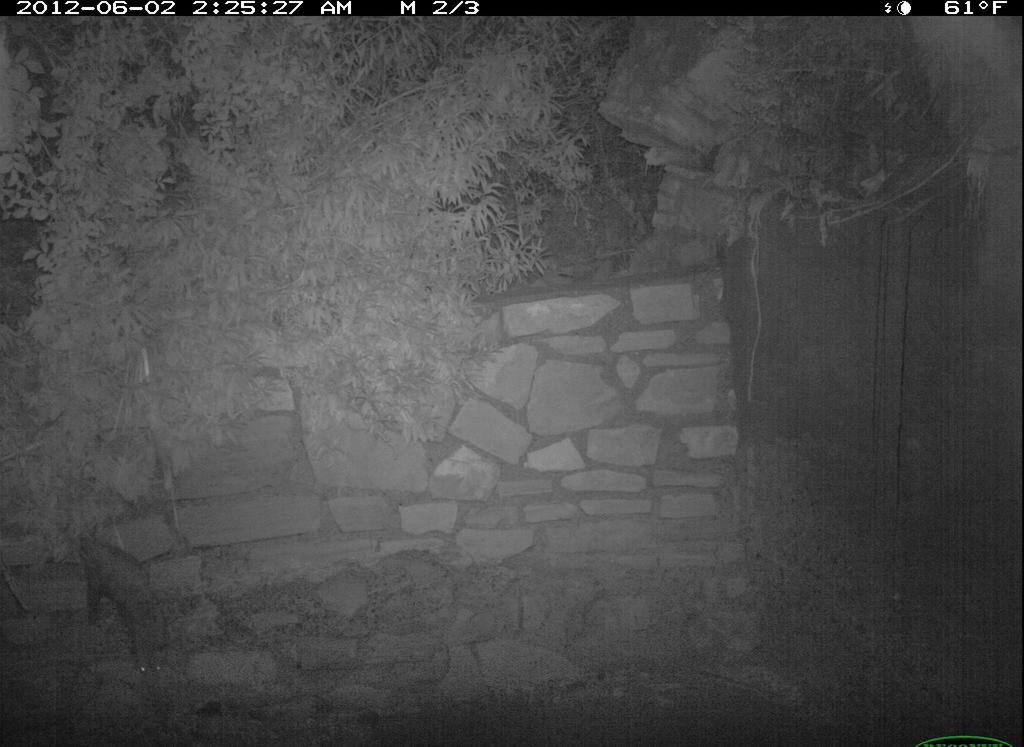opossum: (53, 491, 185, 701)
